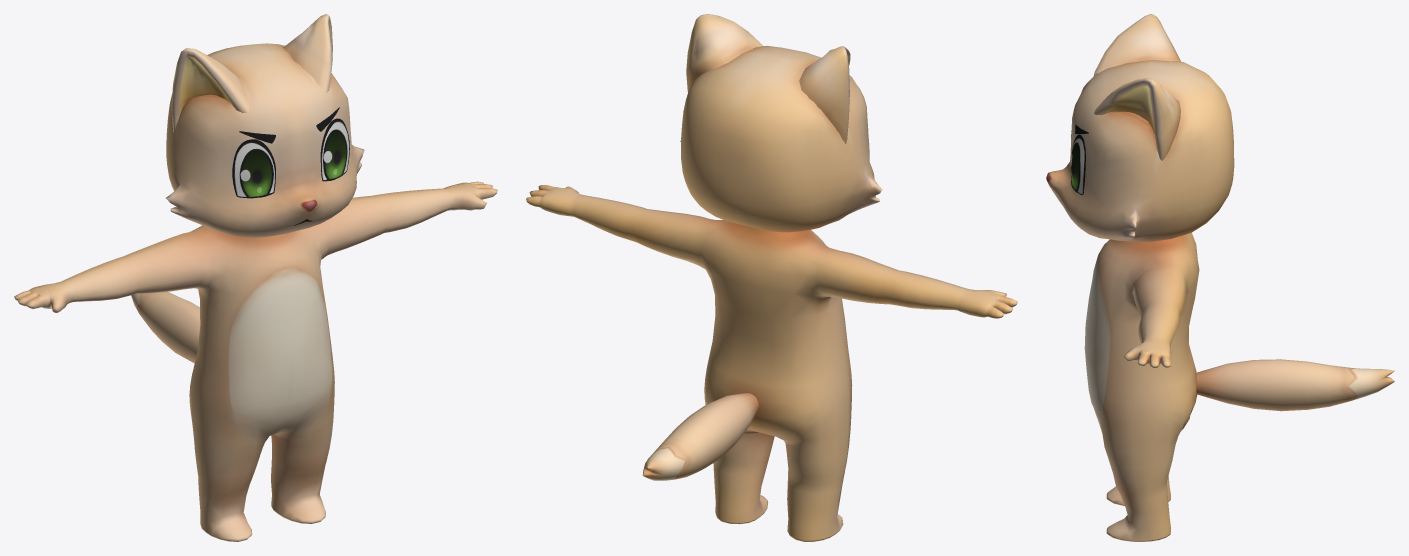
The model's file is c_catHumanoid_MDL.fbx.
3 renders of one model, left to right at view 1: azimuth 30°, elevation 25°; view 2: azimuth 150°, elevation 25°; view 3: azimuth 270°, elevation 25°, orthographic. The views are drawn at different scales.
Visible parts, largest first — view 1: body_MSH, head_MSH, ear_MSH, tail_MSH, r_eye_normal_MSH, l_eye_normal_MSH; view 2: body_MSH, head_MSH, ear_MSH, tail_MSH; view 3: body_MSH, head_MSH, tail_MSH, ear_MSH, l_eye_normal_MSH.
Part boxes in pixels (x1=…): body_MSH: x1=14, y1=181, x2=497, y2=541; head_MSH: x1=166, y1=43, x2=364, y2=237; ear_MSH: x1=171, y1=14, x2=332, y2=132; tail_MSH: x1=131, y1=292, x2=200, y2=363; r_eye_normal_MSH: x1=232, y1=131, x2=275, y2=198; l_eye_normal_MSH: x1=316, y1=107, x2=349, y2=181; body_MSH: x1=526, y1=185, x2=1017, y2=541; head_MSH: x1=680, y1=46, x2=882, y2=232; ear_MSH: x1=686, y1=14, x2=850, y2=143; tail_MSH: x1=642, y1=393, x2=758, y2=480; body_MSH: x1=1084, y1=233, x2=1199, y2=541; head_MSH: x1=1046, y1=60, x2=1234, y2=241; tail_MSH: x1=1196, y1=359, x2=1394, y2=411; ear_MSH: x1=1094, y1=14, x2=1180, y2=160; l_eye_normal_MSH: x1=1071, y1=124, x2=1088, y2=195.
Bounding box in the file's own units: 108 × 105 × 71.13.
